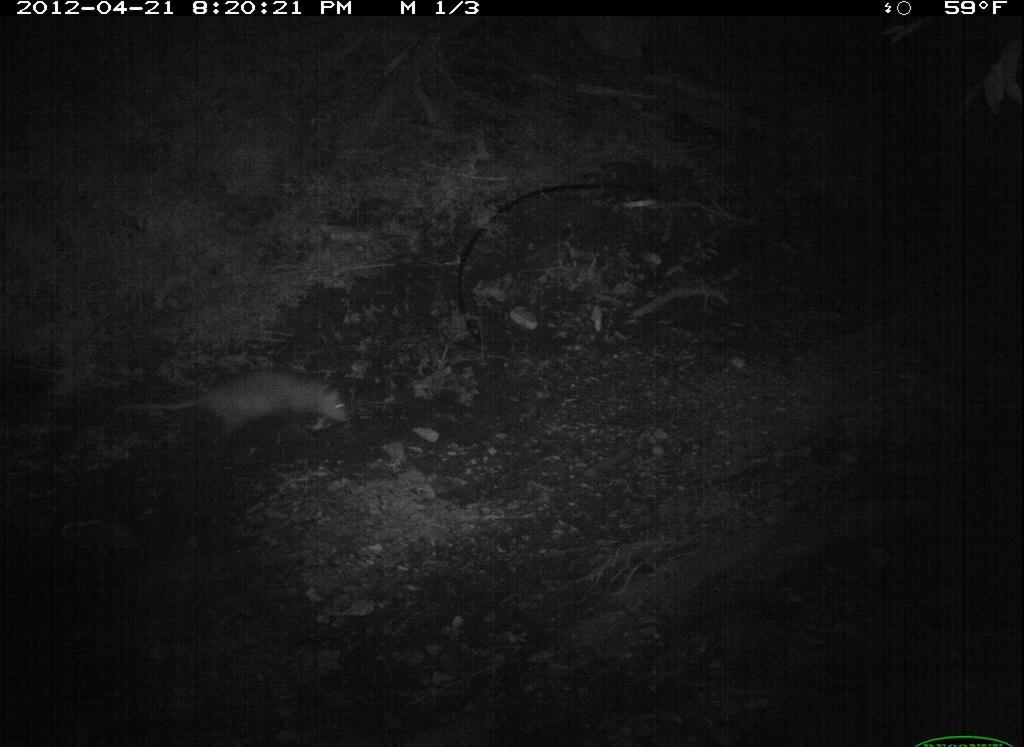opossum: (107, 356, 377, 443)
